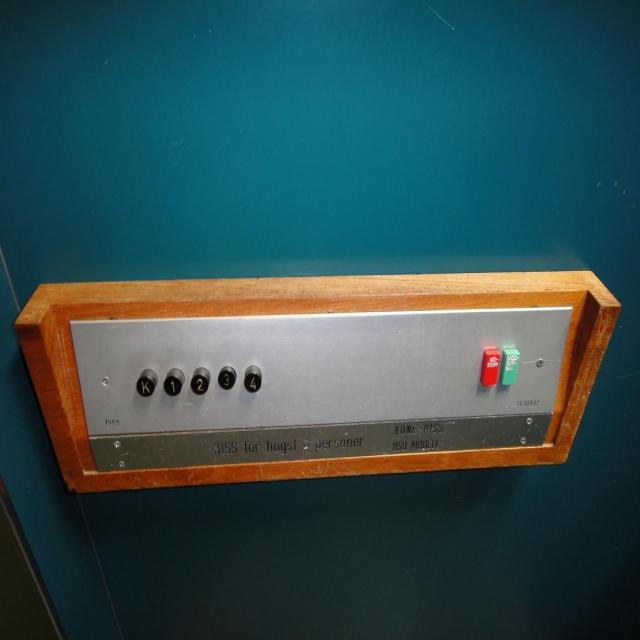1: (161, 365, 185, 396)
2: (190, 366, 212, 395)
3: (217, 364, 237, 390)
4: (242, 363, 264, 393)
K: (134, 368, 158, 399)
text: (479, 346, 500, 387), (499, 347, 520, 385)
